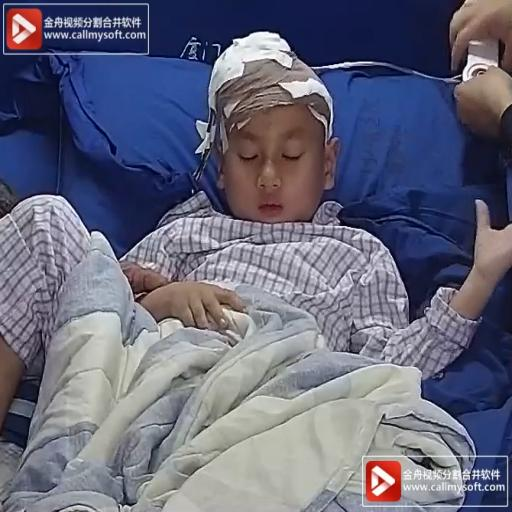Seizure: (205, 36, 360, 240)
